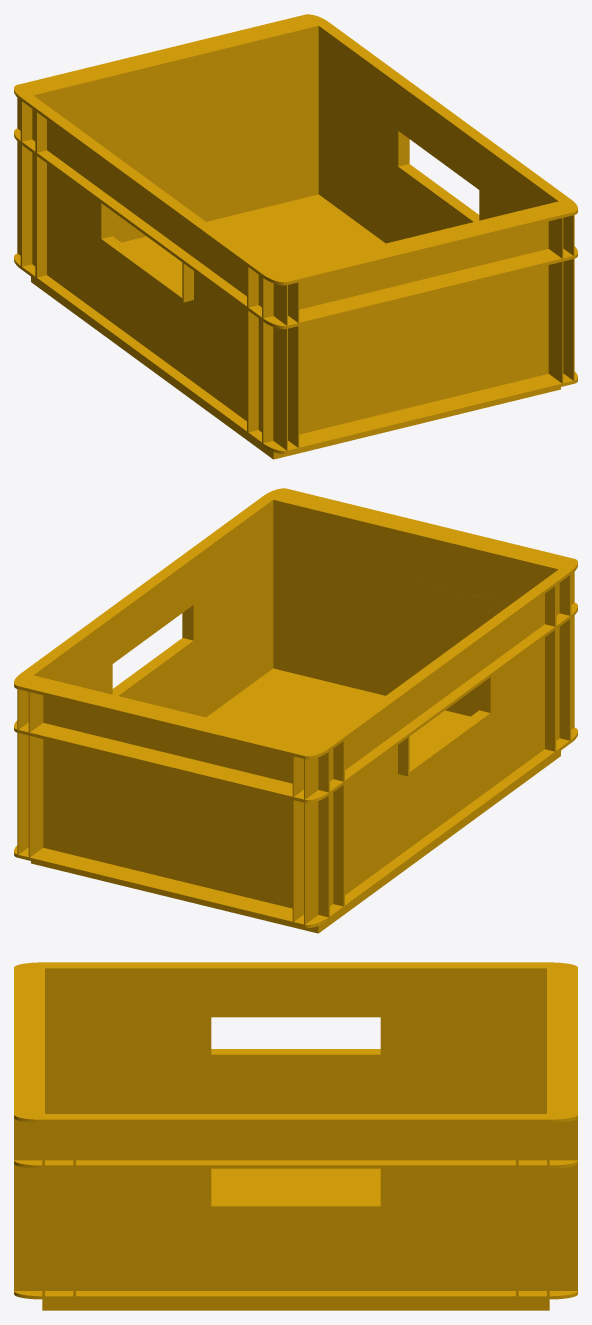
Rendered from eurocontainer_297.dae.
3 views of the same model, one above another, from view 1: azimuth 30°, elevation 25°; view 2: azimuth 150°, elevation 25°; view 3: azimuth 270°, elevation 25° (orthographic). The views are drawn at different scales.
Visible parts, largest first — view 1: eurocontainer_297mm; view 2: eurocontainer_297mm; view 3: eurocontainer_297mm.
Boxes of the visible parts, box(x1,y1,x2,y2) form: eurocontainer_297mm: box(14, 14, 577, 459); eurocontainer_297mm: box(14, 488, 577, 933); eurocontainer_297mm: box(14, 962, 577, 1310).
Size of the model in its own units: 0.196 by 0.297 by 0.1139.
